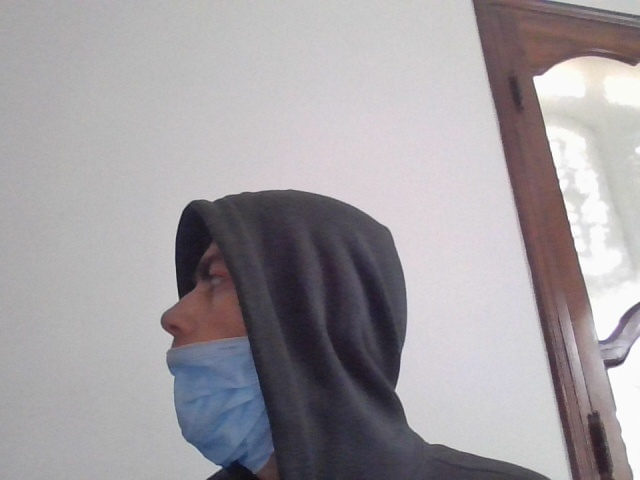mask_weared_incorrect: (160, 222, 304, 472)
